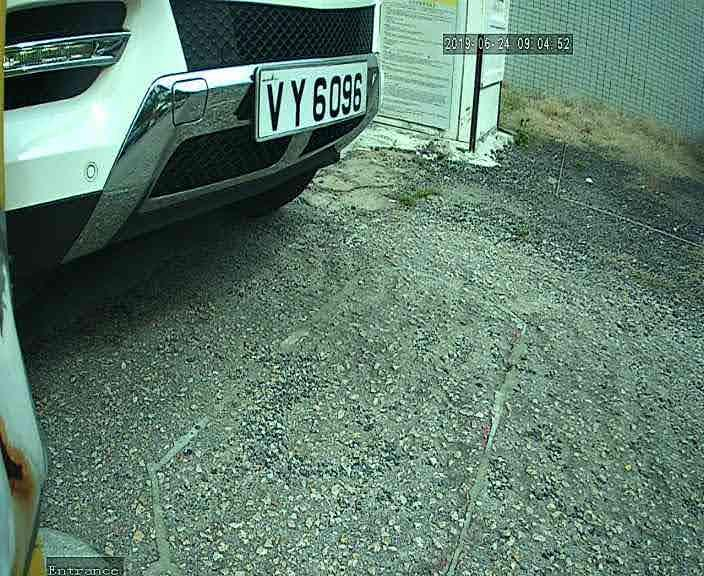privatecar: (6, 2, 400, 310)
